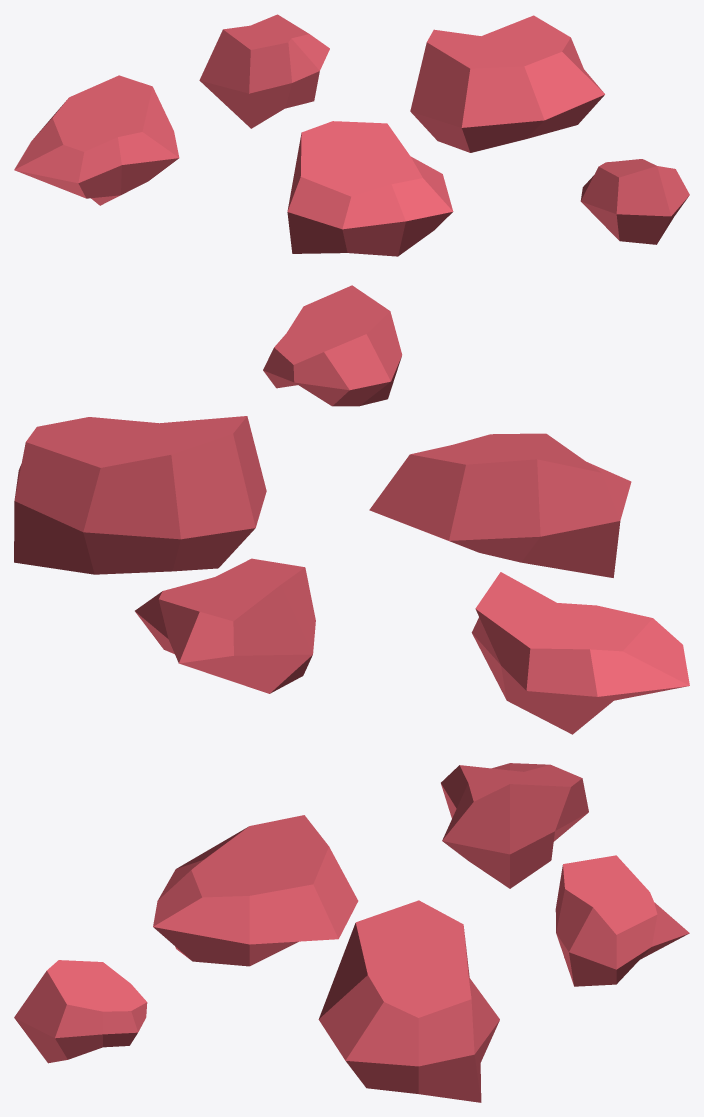
File: decoration-rocks-small.fbx
3 renders of one model, top to bottom at view 1: azimuth 30°, elevation 25°; view 2: azimuth 150°, elevation 25°; view 3: azimuth 270°, elevation 25°, orthographic. The views are drawn at different scales.
Visible parts, largest first — view 1: decoration-rocks-small; view 2: decoration-rocks-small; view 3: decoration-rocks-small.
Boxes of the visible parts, <box> form: decoration-rocks-small: <box>14,14,689,256</box>; decoration-rocks-small: <box>14,285,689,734</box>; decoration-rocks-small: <box>14,763,689,1102</box>.
Bounding box in the file's own units: 1.19 × 0.2605 × 1.12.
